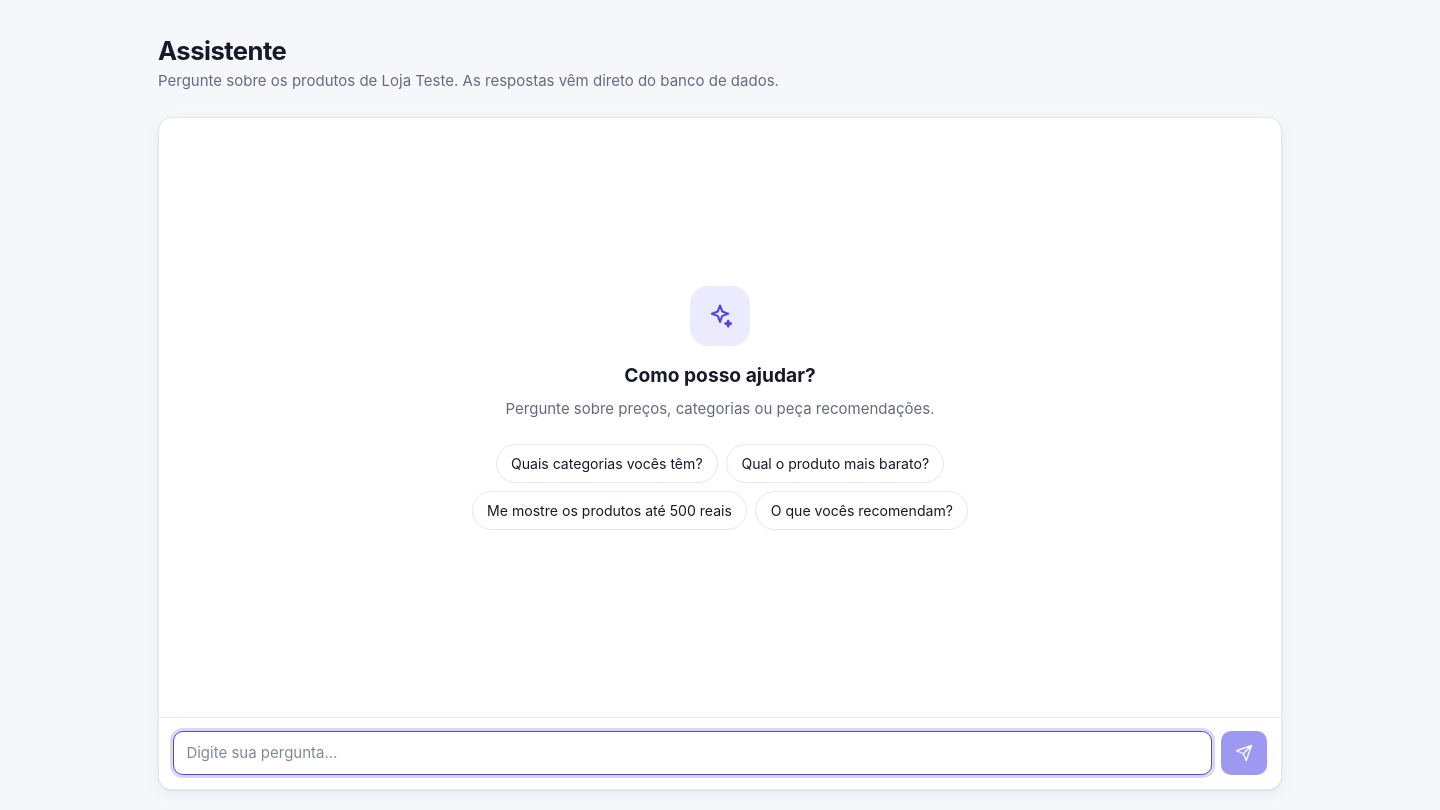
Test: ChatPage › mostra erro amigável quando a API falha
The image size is (1440, 810).
Type "oi" into the text box named "Mensagem" at (692, 753), box [173,731,1212,775]
Then press Enter
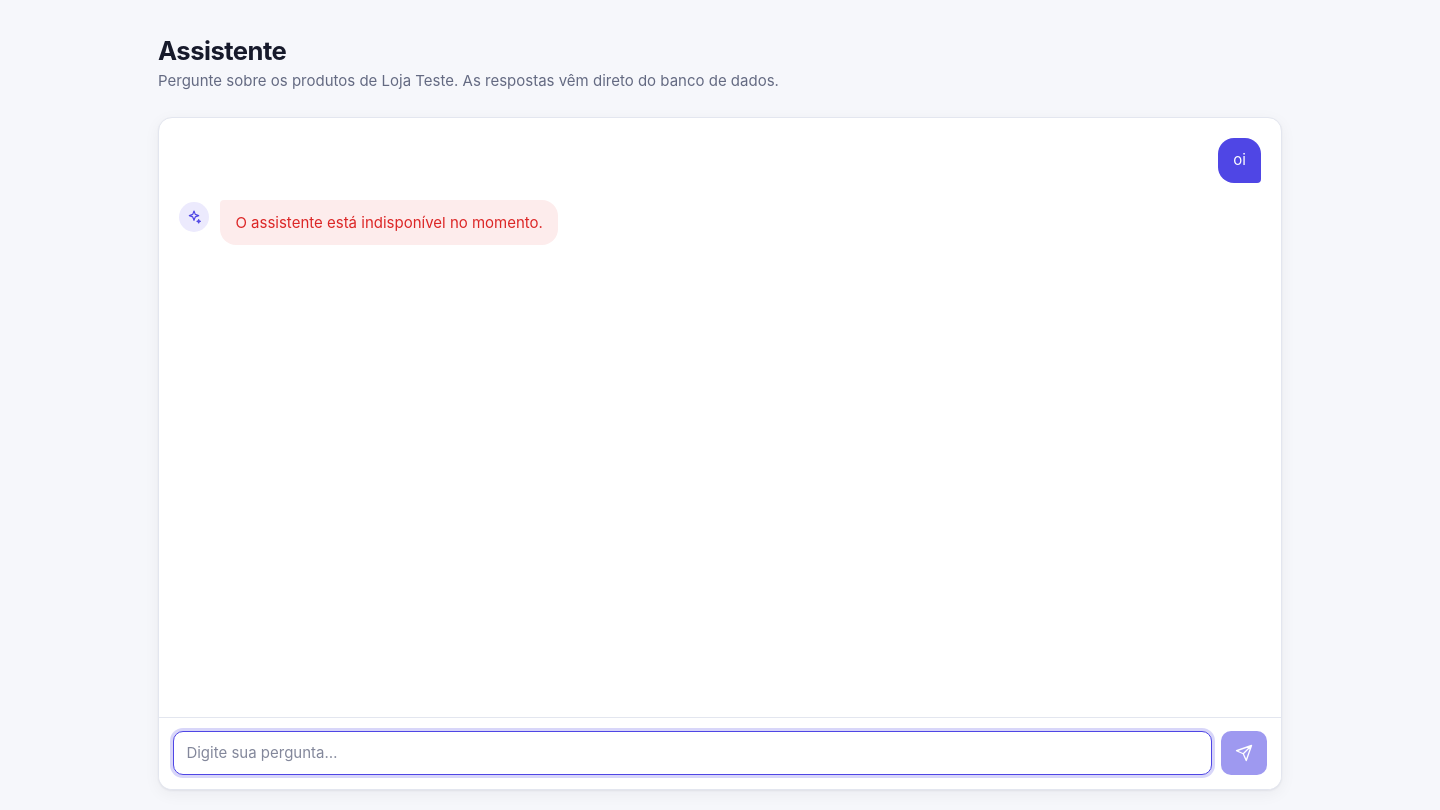
Now the text "O assistente está indisponível no momento." is shown, box [235,212,543,234]
